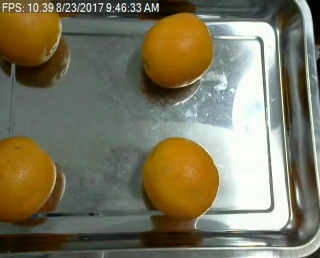Orange: (142, 137, 219, 218), (139, 11, 212, 88), (1, 135, 57, 221), (1, 1, 63, 67)
